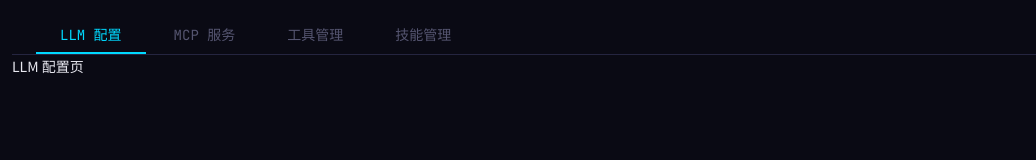
Test case: SettingsPage 标签切换 › 点击 MCP 服务切换到 MCP 标签页（AC-002）
The width and height of the screenshot is (1036, 160).
Click the button with class "settings-tab" showing "MCP 服务" at (204, 35), box [150,16,259,54]
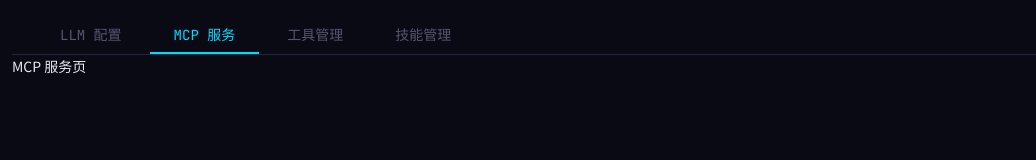
Check: the text "MCP 服务页" is shown, box [12,55,86,77]
